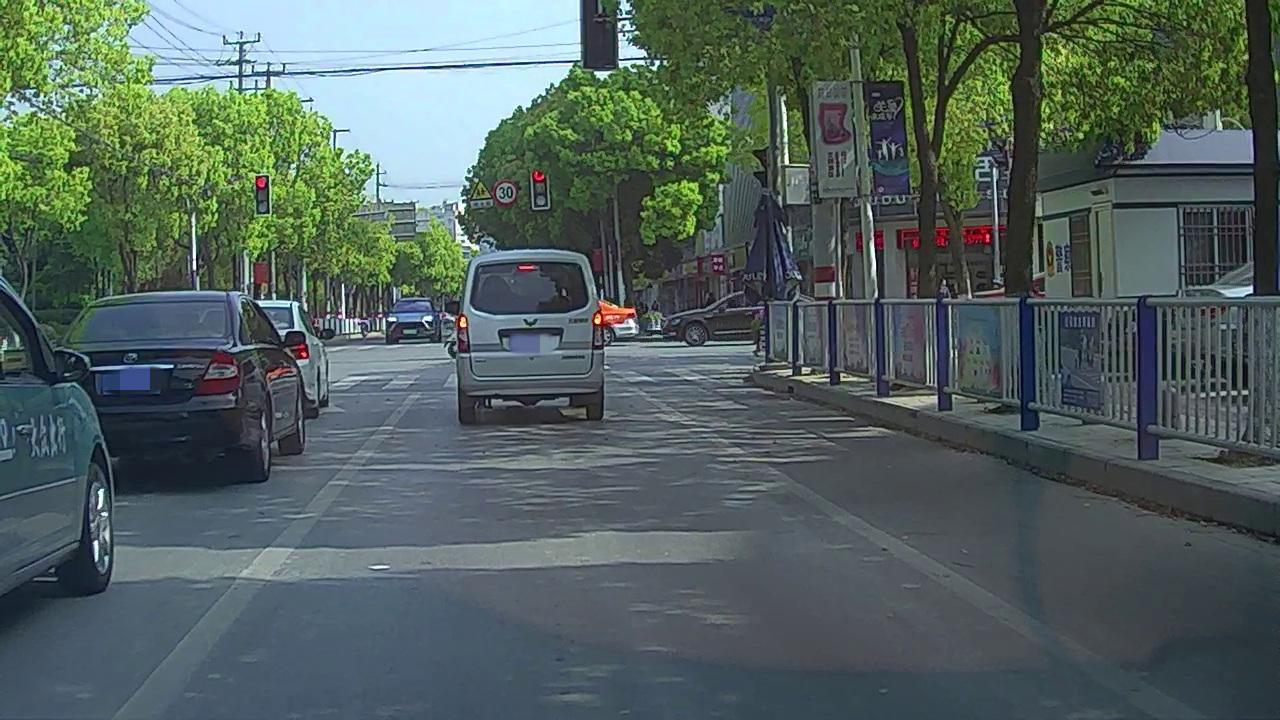traffic_light: (531, 166, 550, 209), (256, 176, 271, 214)
